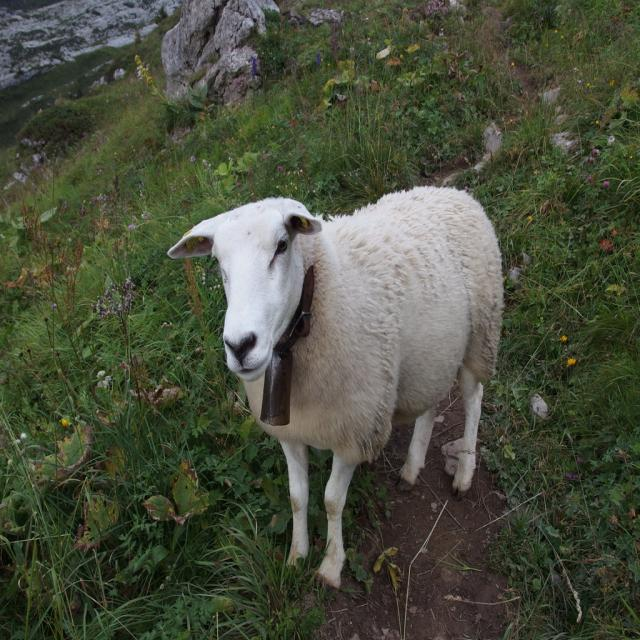Sheep: (166, 183, 510, 595)
